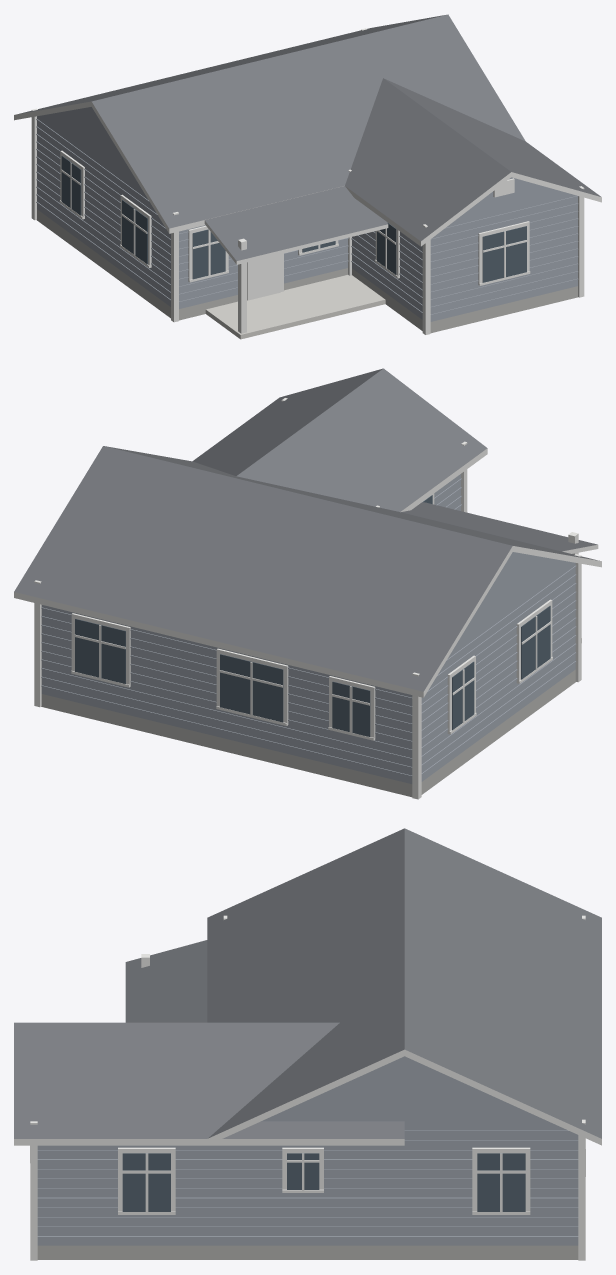
Rendered from olive-cottage.glb.
3 renders of one model, top to bottom at view 1: azimuth 30°, elevation 25°; view 2: azimuth 150°, elevation 25°; view 3: azimuth 270°, elevation 25°, orthographic. The views are drawn at different scales.
Visible parts, largest first — view 1: The Olive (cottage); view 2: The Olive (cottage); view 3: The Olive (cottage).
Part boxes in pixels (left/top/right/bottom): The Olive (cottage): left=14, top=14, right=601, bottom=339; The Olive (cottage): left=14, top=368, right=601, bottom=799; The Olive (cottage): left=14, top=828, right=601, bottom=1260.
Size of the model in its own units: 9.9 by 4.57 by 11.12.
